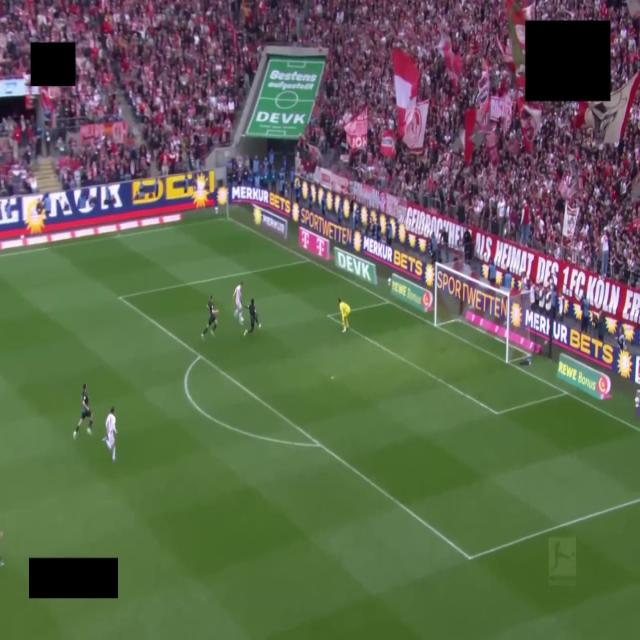ball: (239, 314, 244, 324)
player: (74, 384, 92, 439), (103, 407, 116, 462), (202, 296, 217, 340), (244, 299, 260, 336), (233, 282, 243, 325), (338, 299, 350, 332)
